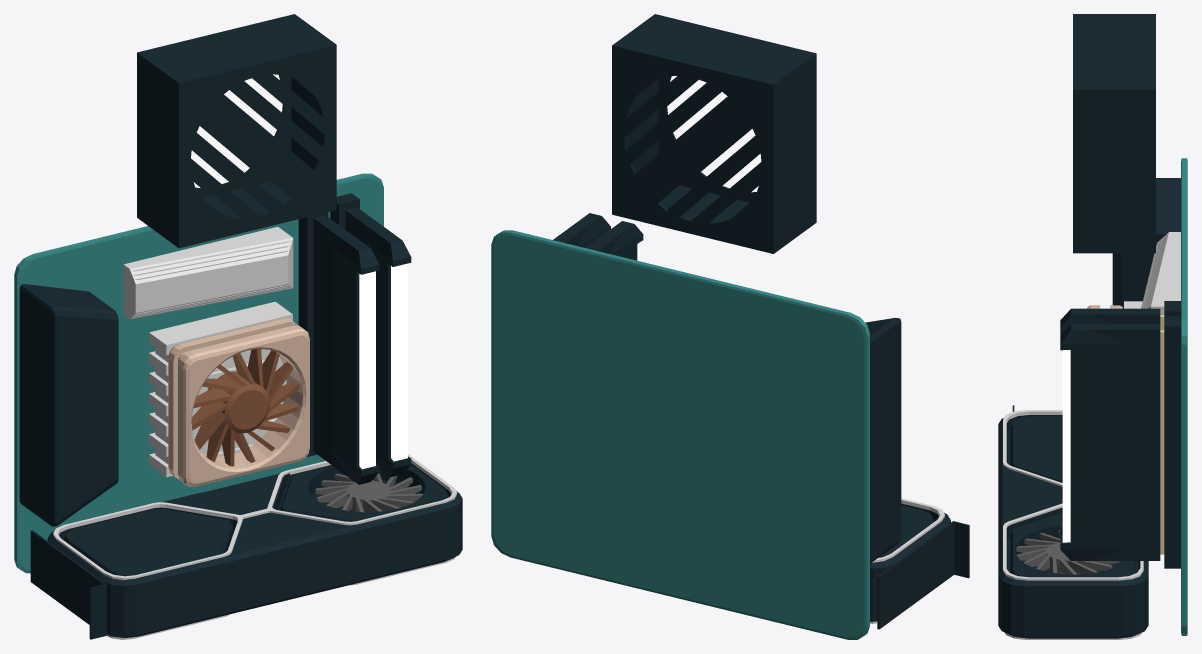
The model's file is computer.185dcdf2.glb.
The picture shows the model from 3 angles, left to right: view 1: azimuth 30°, elevation 25°; view 2: azimuth 150°, elevation 25°; view 3: azimuth 270°, elevation 25°; orthographic projection. The views are drawn at different scales.
Visible parts, largest first — view 1: gpu, psu, ram, motherboard, io, cpu_cooler, ssd, cpu_fan, gpu_fan, ram_io; view 2: motherboard, psu, gpu, io, ram; view 3: ram, psu, gpu, ram_io, motherboard, io, ssd, gpu_fan.
Part boxes in pixels (x1,y1,x2,y2): gpu: [30, 454, 462, 639]; psu: [137, 14, 336, 248]; ram: [313, 207, 411, 484]; motherboard: [14, 173, 383, 573]; io: [19, 284, 118, 526]; cpu_cooler: [149, 301, 309, 486]; ssd: [123, 227, 293, 319]; cpu_fan: [191, 349, 299, 466]; gpu_fan: [315, 473, 422, 512]; ram_io: [298, 193, 359, 456]; motherboard: [491, 230, 869, 639]; psu: [612, 14, 816, 253]; gpu: [870, 498, 969, 629]; io: [865, 317, 901, 563]; ram: [553, 213, 643, 261]; ram: [1060, 308, 1164, 560]; psu: [1073, 14, 1155, 253]; gpu: [998, 405, 1148, 639]; ram_io: [1164, 301, 1180, 568]; motherboard: [1181, 158, 1187, 635]; io: [1112, 178, 1180, 308]; ssd: [1141, 232, 1180, 314]; gpu_fan: [1016, 530, 1120, 574].
Size of the model in its own units: 0.2373 by 0.3056 by 0.1041.
